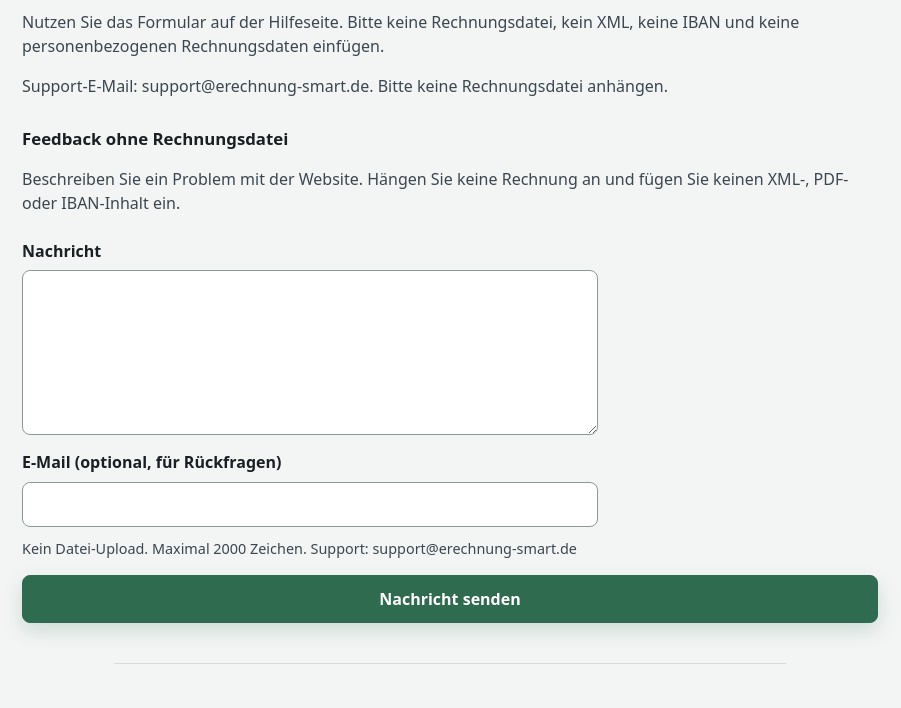
Test case: HelpPage › shows FAQ answers and submits text-only feedback
The width and height of the screenshot is (901, 708).
(page scrolled)
In the text box labelled "Nachricht": point(310, 353) [22,270,598,435], type "Die Export-Schaltflaeche war auf dem Handy schwer zu finden."
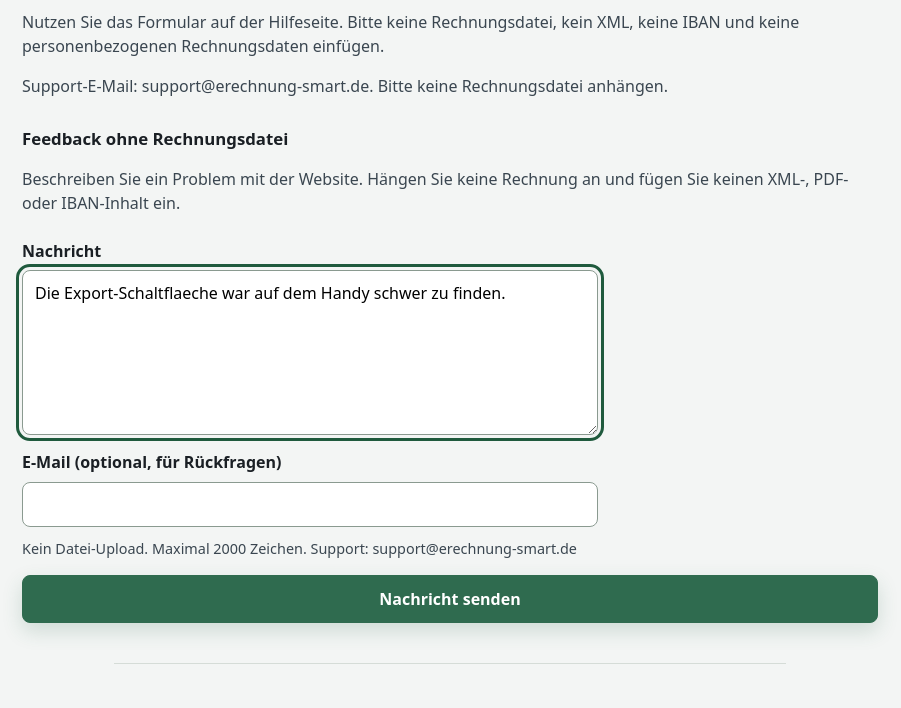
Click the button "Nachricht senden": point(450, 599) [22,575,878,623]
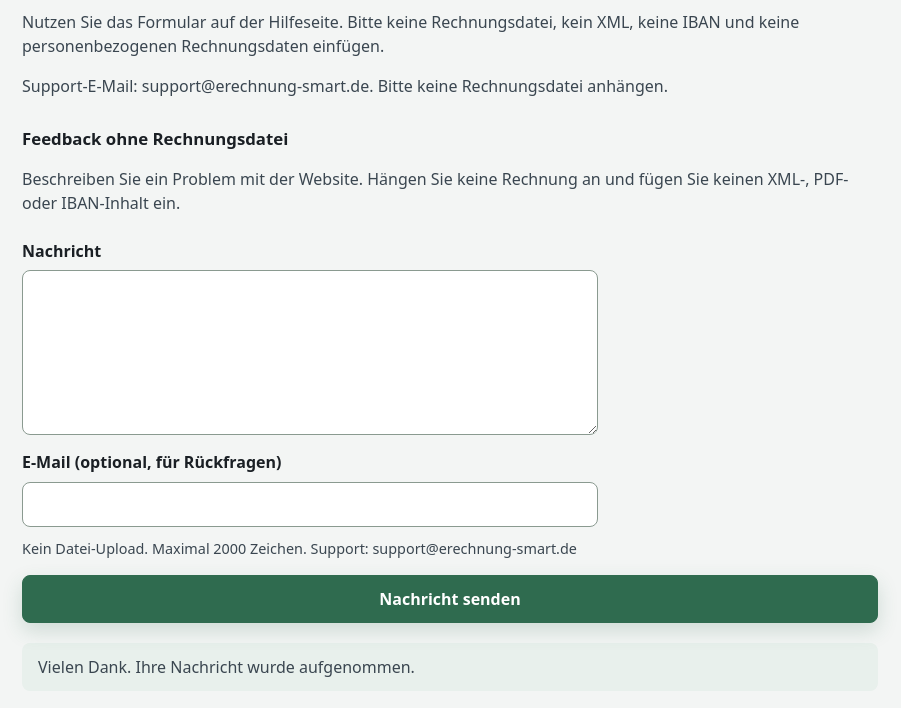
Check: the message shows "Vielen Dank", box [38,656,415,678]
